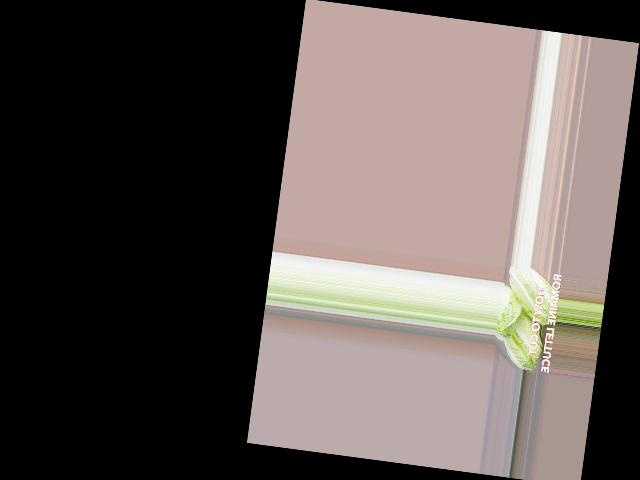lettuce: (496, 304, 551, 374)
